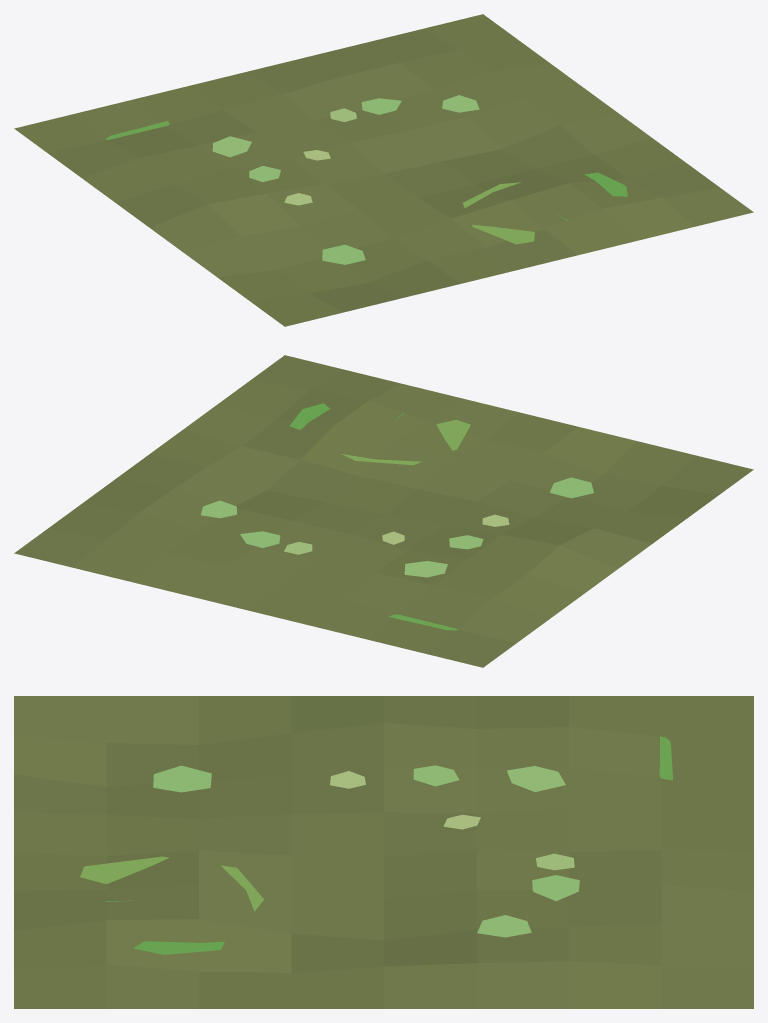
The model's file is acid_v2_lowpoly.glb.
3 renders of one model, top to bottom at view 1: azimuth 30°, elevation 25°; view 2: azimuth 150°, elevation 25°; view 3: azimuth 270°, elevation 25°, orthographic. The views are drawn at different scales.
Visible parts, largest first — view 1: Acid_v2Tile; view 2: Acid_v2Tile; view 3: Acid_v2Tile.
Part boxes in pixels (left/top/right/bottom): Acid_v2Tile: left=14, top=14, right=753, bottom=326; Acid_v2Tile: left=14, top=355, right=753, bottom=667; Acid_v2Tile: left=14, top=696, right=753, bottom=1008.
Size of the model in its own units: 1 by 0.0385 by 1.
